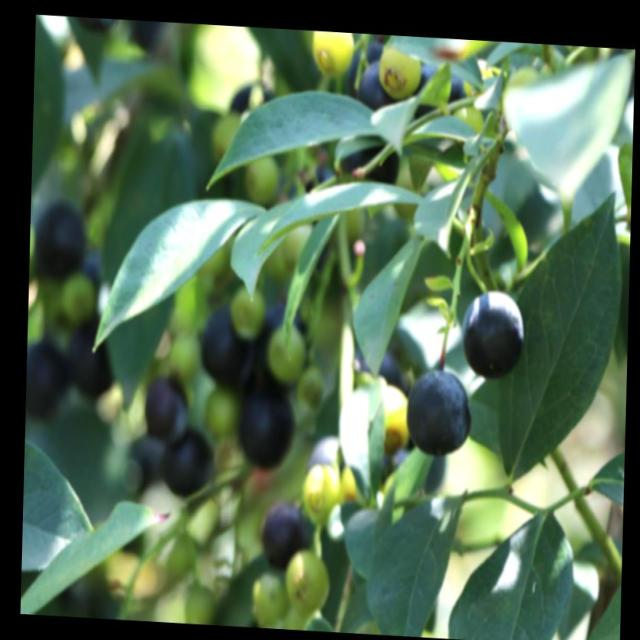blueberry: (455, 283, 531, 382), (399, 362, 474, 454), (238, 374, 296, 464), (37, 199, 90, 276), (207, 302, 256, 383), (140, 366, 194, 439), (157, 418, 211, 490), (260, 295, 307, 361), (358, 60, 407, 108)
blueberry-unripe: (284, 547, 332, 612), (300, 460, 346, 524), (244, 147, 283, 208), (311, 31, 357, 82), (378, 42, 424, 92), (378, 384, 410, 454), (248, 570, 289, 624), (268, 324, 304, 376), (230, 284, 264, 336), (204, 390, 236, 433)
